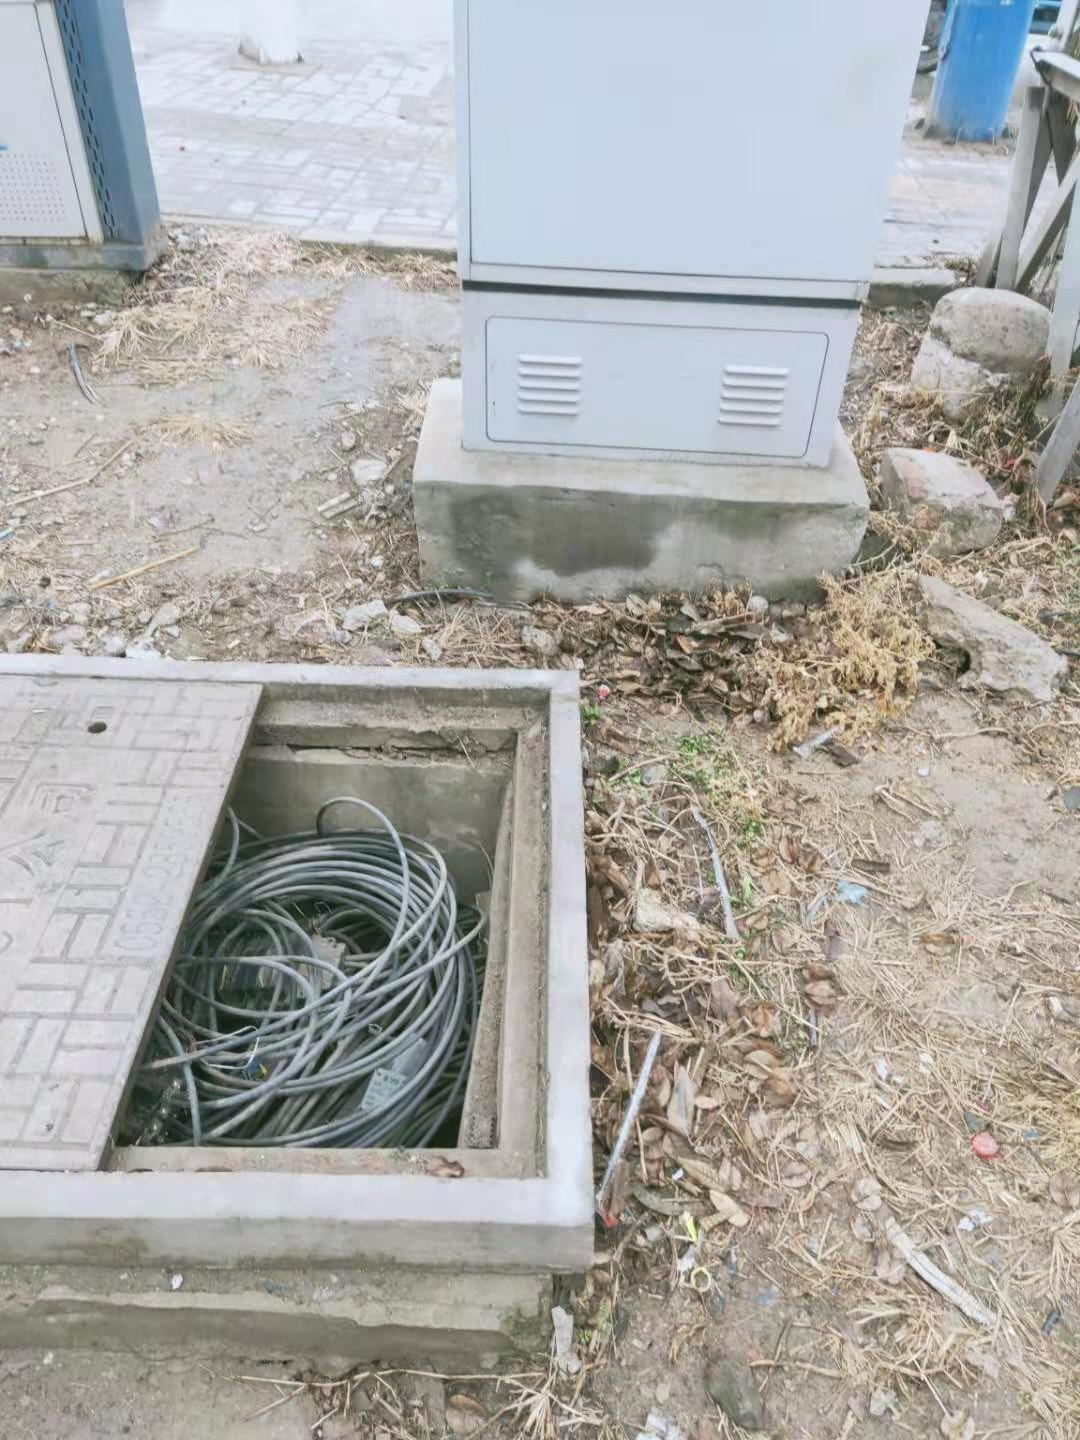lose: (3, 652, 599, 1272)
